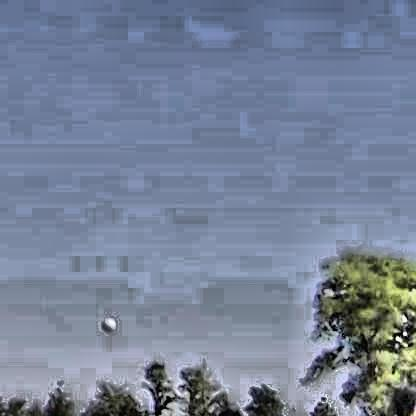golfball: (99, 314, 114, 331)
